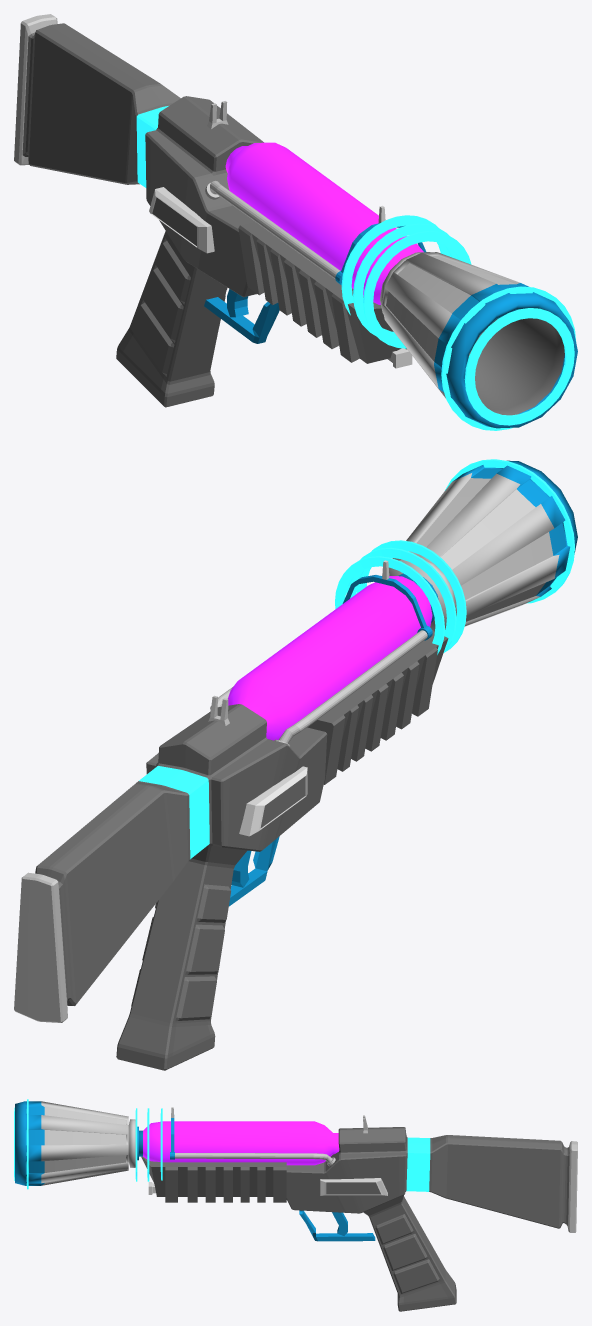
File: portalgun.fbx
3 renders of one model, top to bottom at view 1: azimuth 30°, elevation 25°; view 2: azimuth 150°, elevation 25°; view 3: azimuth 270°, elevation 25°, orthographic. The views are drawn at different scales.
Visible parts, largest first — view 1: Icosphere; view 2: Icosphere; view 3: Icosphere.
Part boxes in pixels (x1,y1,x2,y2): Icosphere: [14, 14, 577, 430]; Icosphere: [14, 459, 577, 1070]; Icosphere: [14, 1099, 577, 1311].
Size of the model in its own units: 16.05 by 39.7 by 100.
